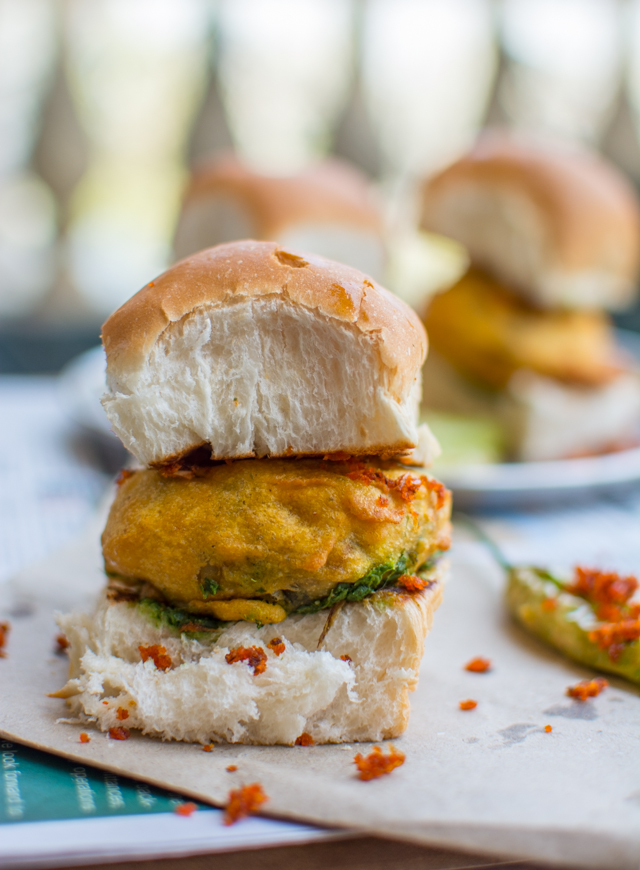vada pav: (131, 300, 368, 725)
